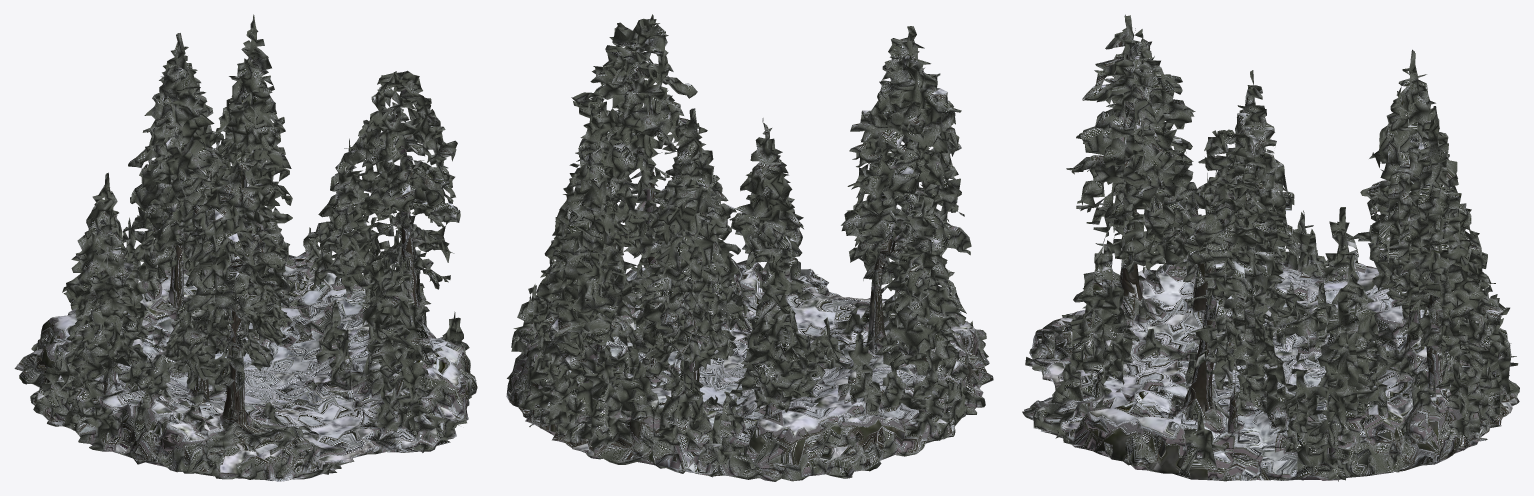
File: snow-pine-forest.glb
3 views of the same model, side by side, from view 1: azimuth 30°, elevation 25°; view 2: azimuth 150°, elevation 25°; view 3: azimuth 270°, elevation 25° (orthographic). The views are drawn at different scales.
Size of the model in its own units: 1.89 by 1.39 by 1.89.
1 material, 1 textured.
